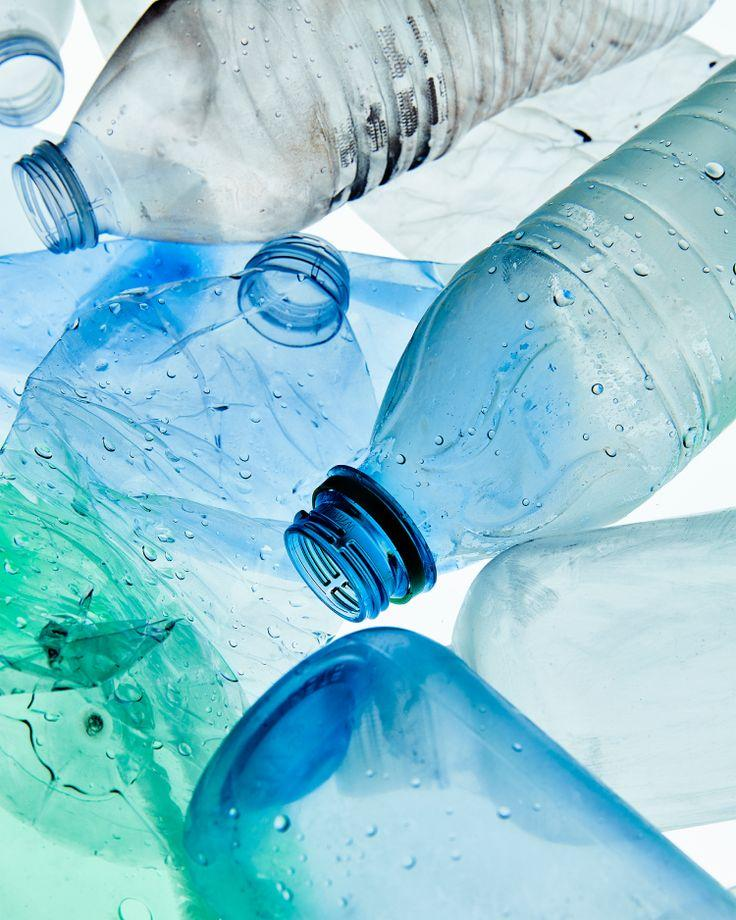PETE: (278, 70, 734, 620), (0, 234, 379, 872), (6, 0, 736, 244)
